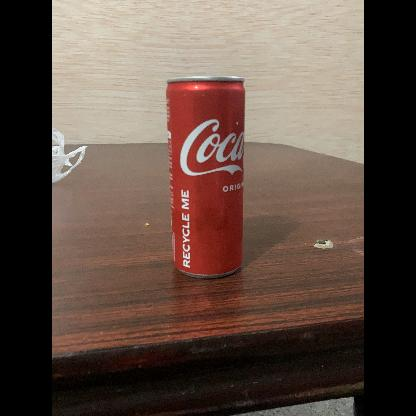Tin_Can: (164, 72, 250, 276)
